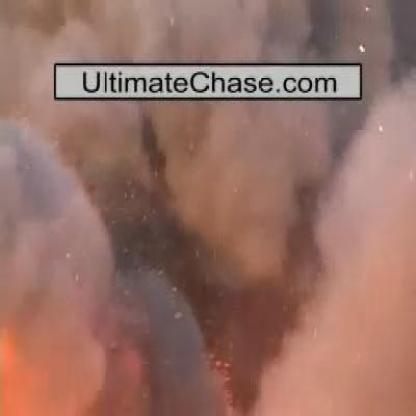-: (27, 106, 390, 390), (54, 1, 346, 61)
